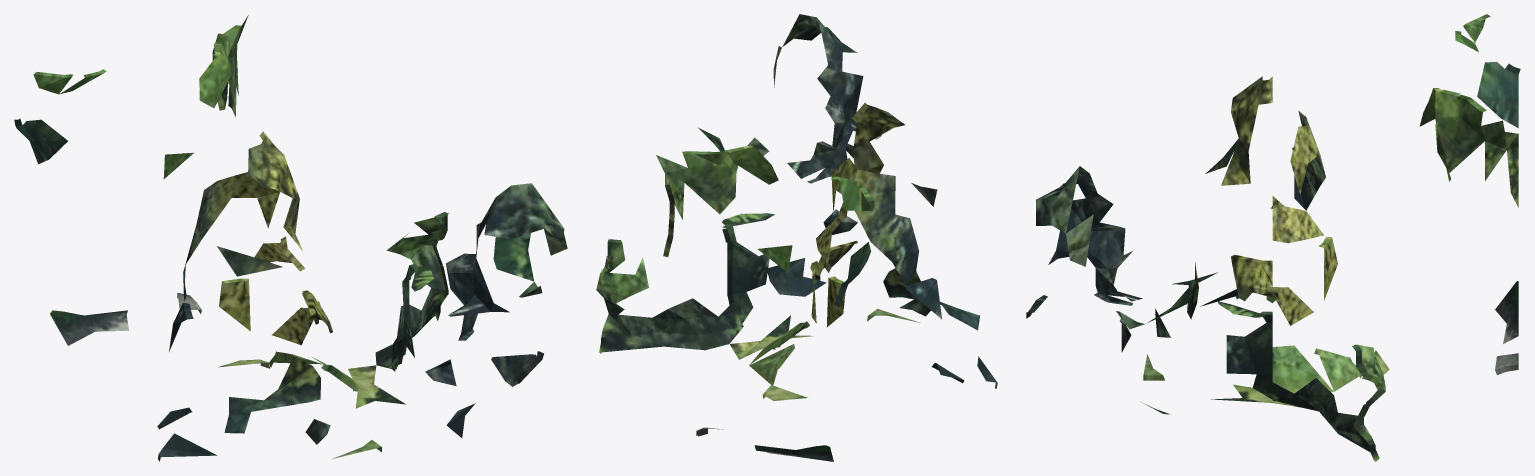
File: BuildingMesh-00018.gltf
The picture shows the model from 3 angles, left to right: view 1: azimuth 30°, elevation 25°; view 2: azimuth 150°, elevation 25°; view 3: azimuth 270°, elevation 25°; orthographic projection. The views are drawn at different scales.
Visible parts, largest first — view 1: BuildingMesh-00018; view 2: BuildingMesh-00018; view 3: BuildingMesh-00018.
Part boxes in pixels (x1=…): BuildingMesh-00018: x1=14, y1=15, x2=567, y2=461; BuildingMesh-00018: x1=596, y1=14, x2=997, y2=461; BuildingMesh-00018: x1=1026, y1=14, x2=1520, y2=461.
Bounding box in the file's own units: 0.7804 × 0.6235 × 0.9765.
1 material, 1 textured.
